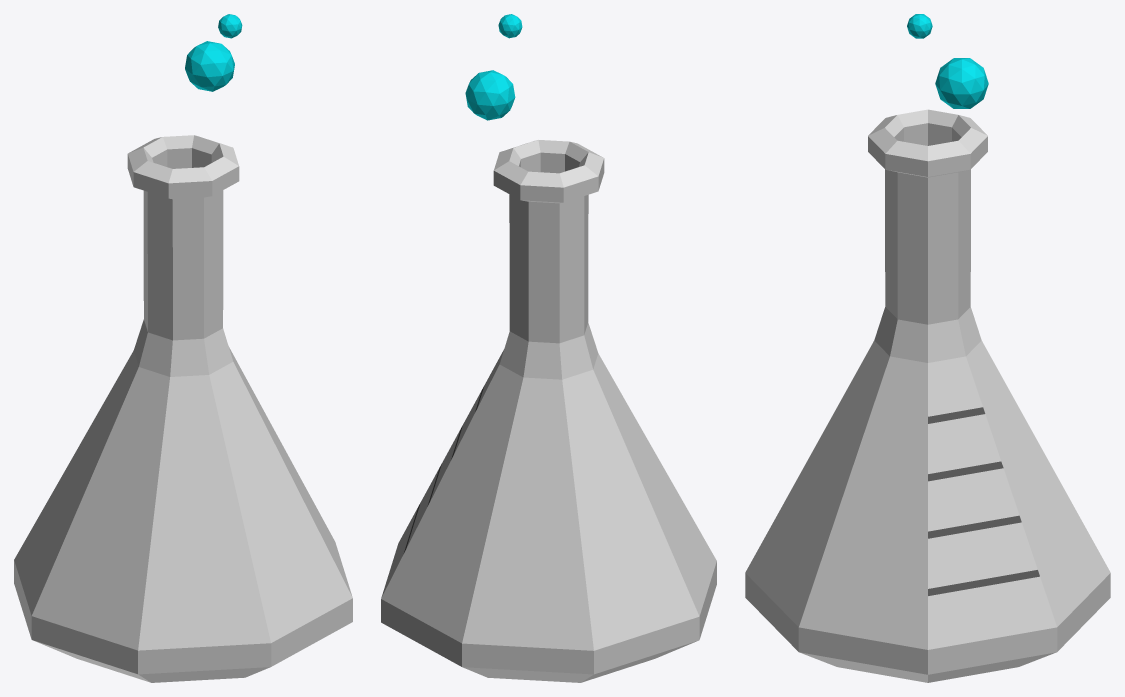
File: flask.glb
3 renders of one model, left to right at view 1: azimuth 30°, elevation 25°; view 2: azimuth 150°, elevation 25°; view 3: azimuth 270°, elevation 25°, orthographic. The views are drawn at different scales.
Parts seen in each view (by area): view 1: Beaker_Icosphere; view 2: Beaker_Icosphere; view 3: Beaker_Icosphere.
Boxes of the visible parts, x1,y1,x2,y2 form: Beaker_Icosphere: [14, 14, 352, 682]; Beaker_Icosphere: [381, 14, 716, 682]; Beaker_Icosphere: [745, 14, 1110, 682].
Size of the model in its own units: 10 by 19.19 by 10.
